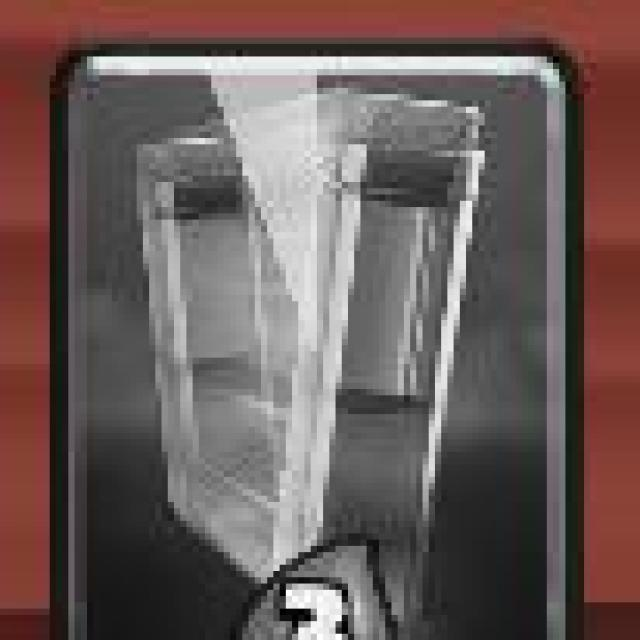Clone_Spell: (41, 30, 591, 640)
